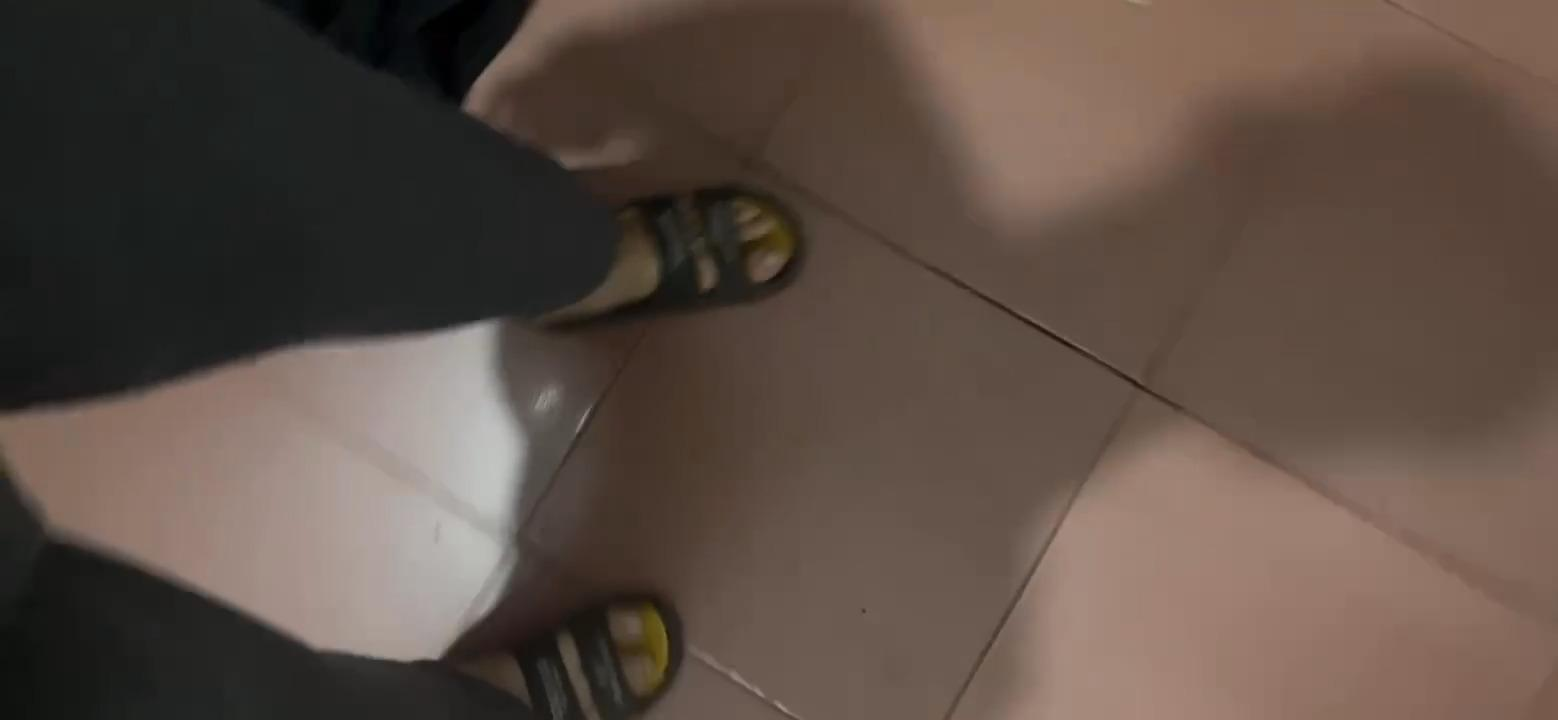no-boot: (537, 185, 808, 345), (471, 597, 706, 720)
